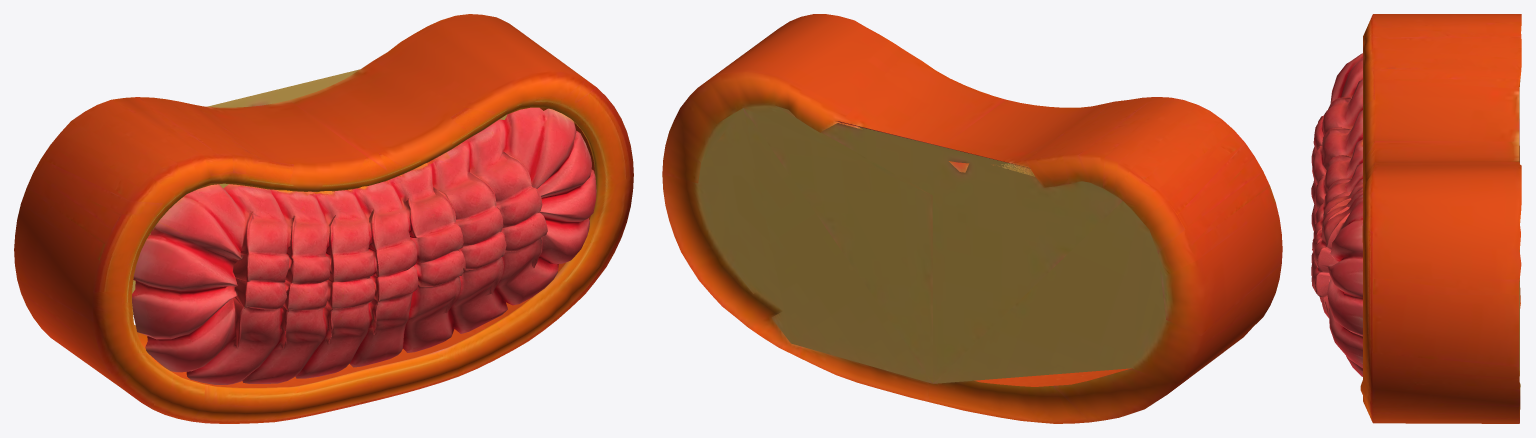
File: mitochondrion-v2.glb
3 renders of one model, left to right at view 1: azimuth 30°, elevation 25°; view 2: azimuth 150°, elevation 25°; view 3: azimuth 270°, elevation 25°, orthographic. The views are drawn at different scales.
Bounding box in the file's own units: 0.9604 × 0.4878 × 0.3467.
1 material, 1 textured.
